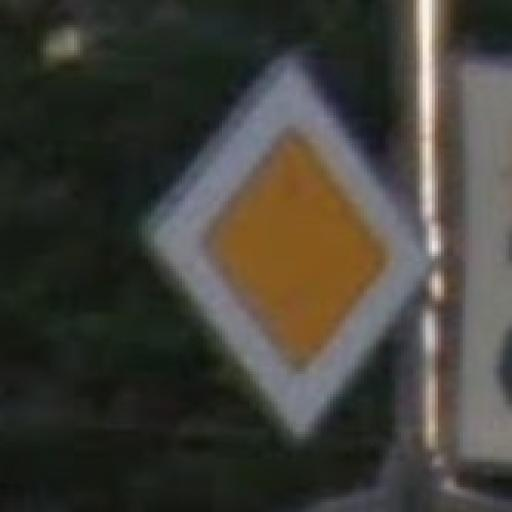traffic_sign: (140, 54, 433, 445)
